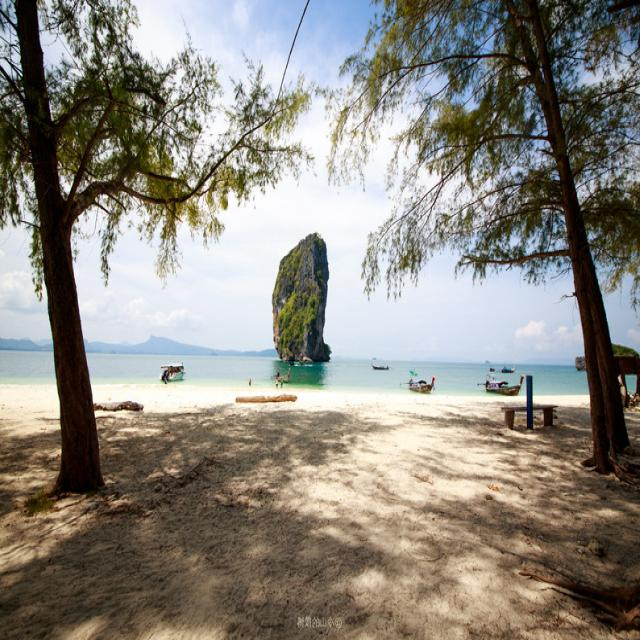reef: (265, 222, 341, 364)
